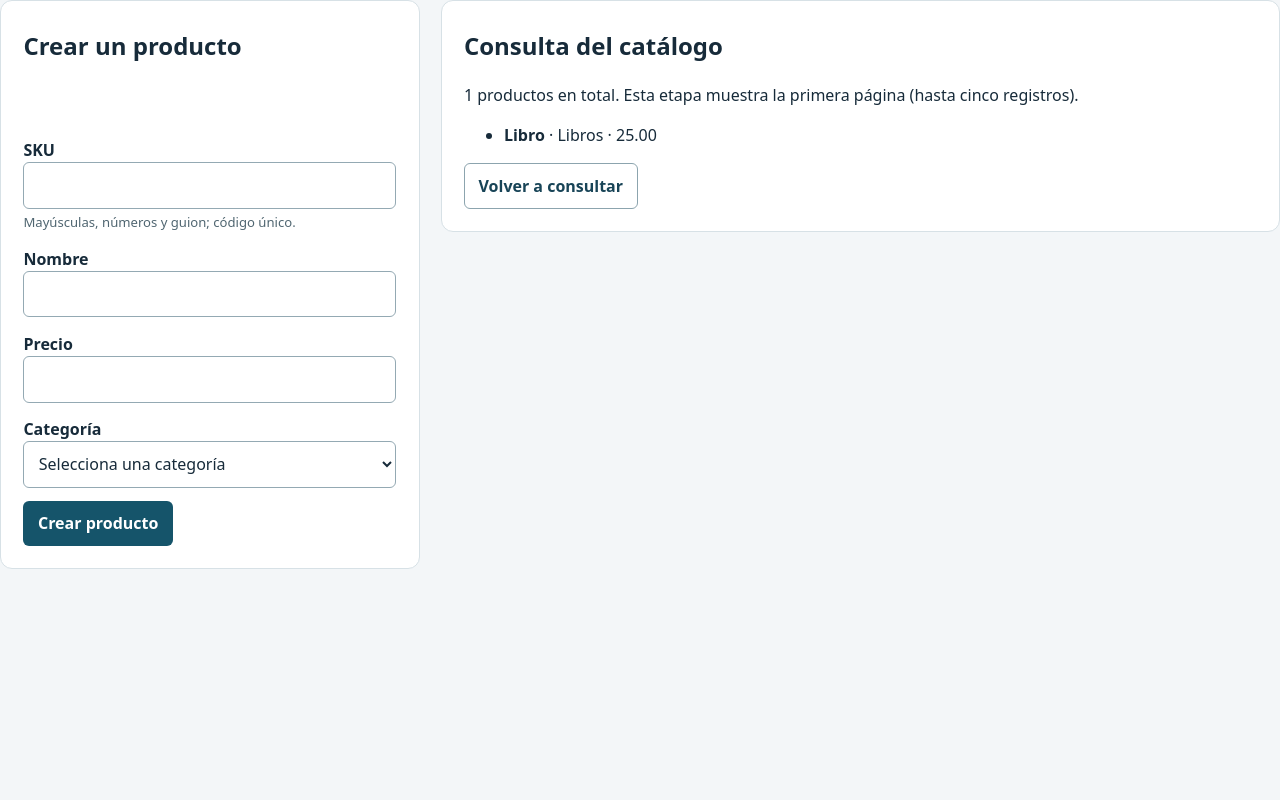
Test: etapa 2 crea con tipos correctos y actualiza la consulta
Type "ETAPA-01" into the field labelled "SKU" at (210, 185), box 23,162 -> 396,209
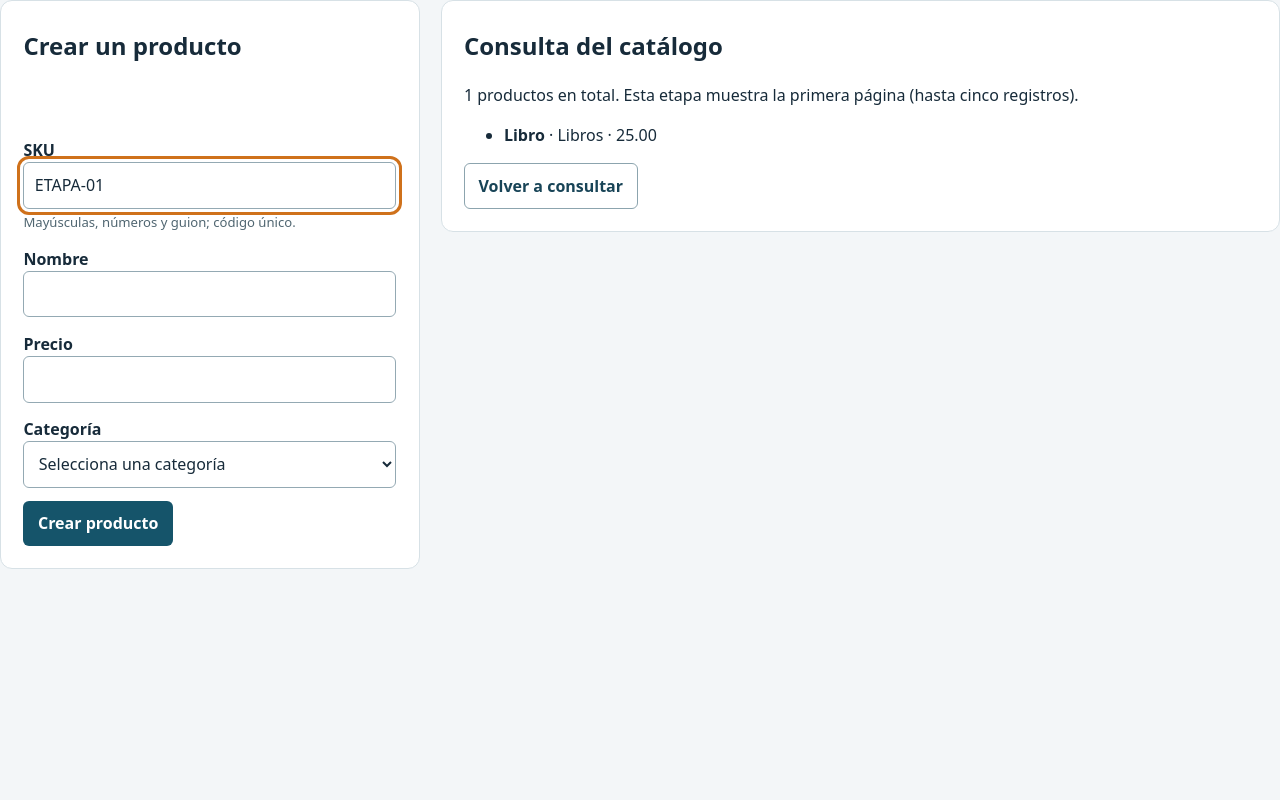
Type "Libro nuevo" into the field labelled "Nombre" at (210, 294), box 23,271 -> 396,317
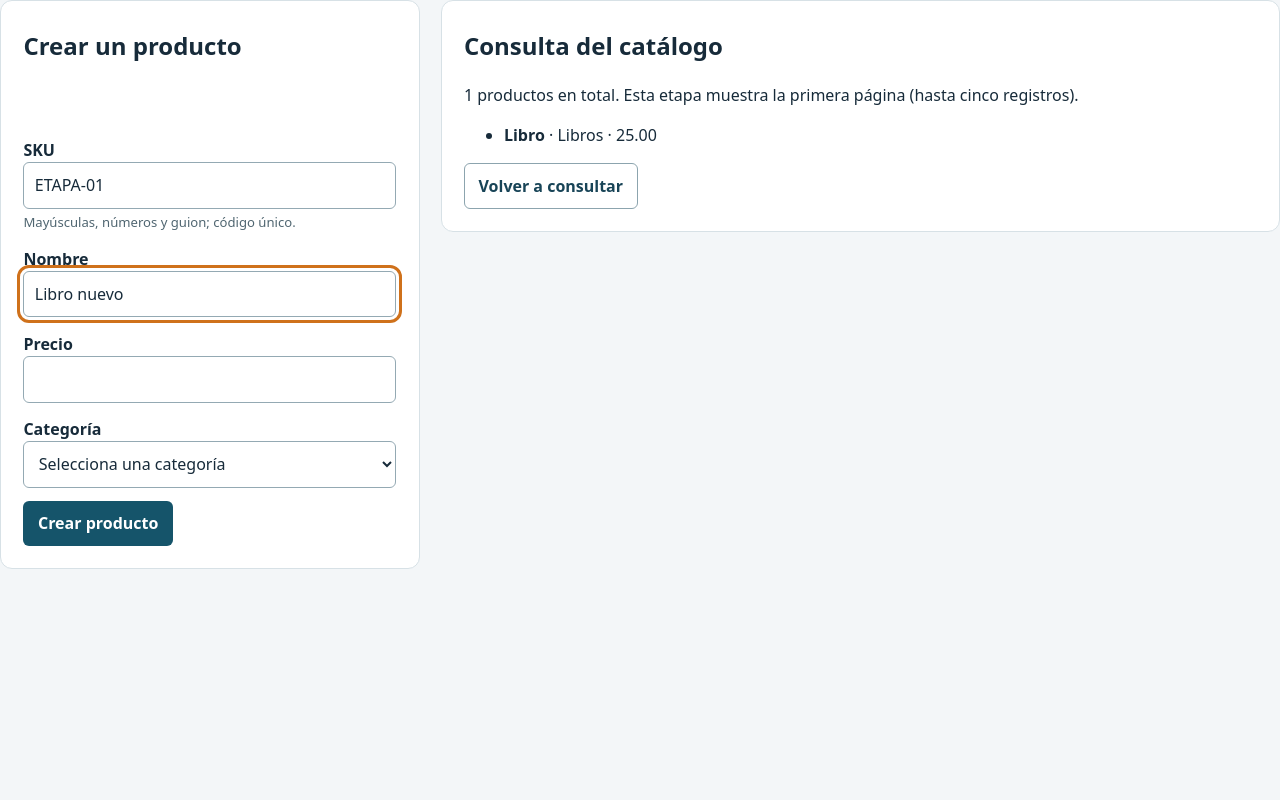
Type "30.50" into the number field labelled "Precio" at (210, 379), box 23,356 -> 396,403
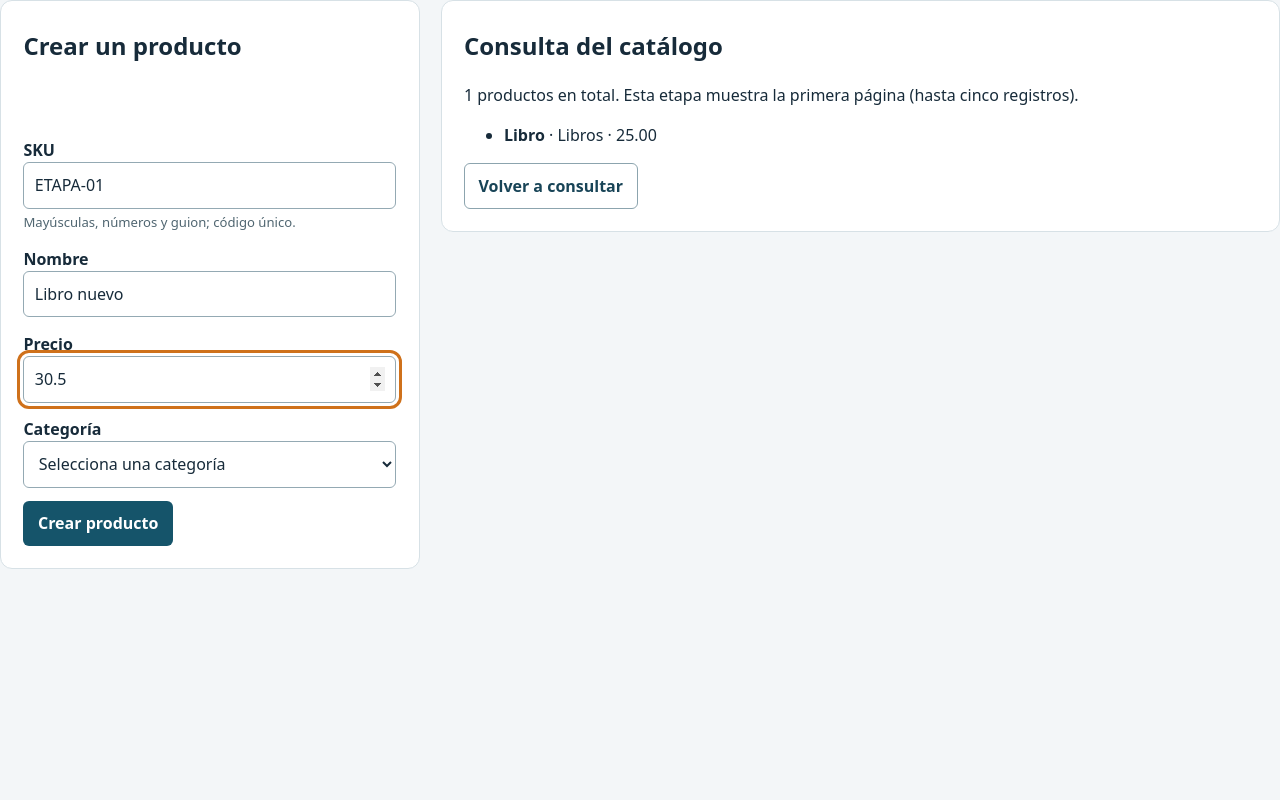
Select "Libros" in the dropdown labelled "Categoría" at (210, 464), box 23,441 -> 396,488
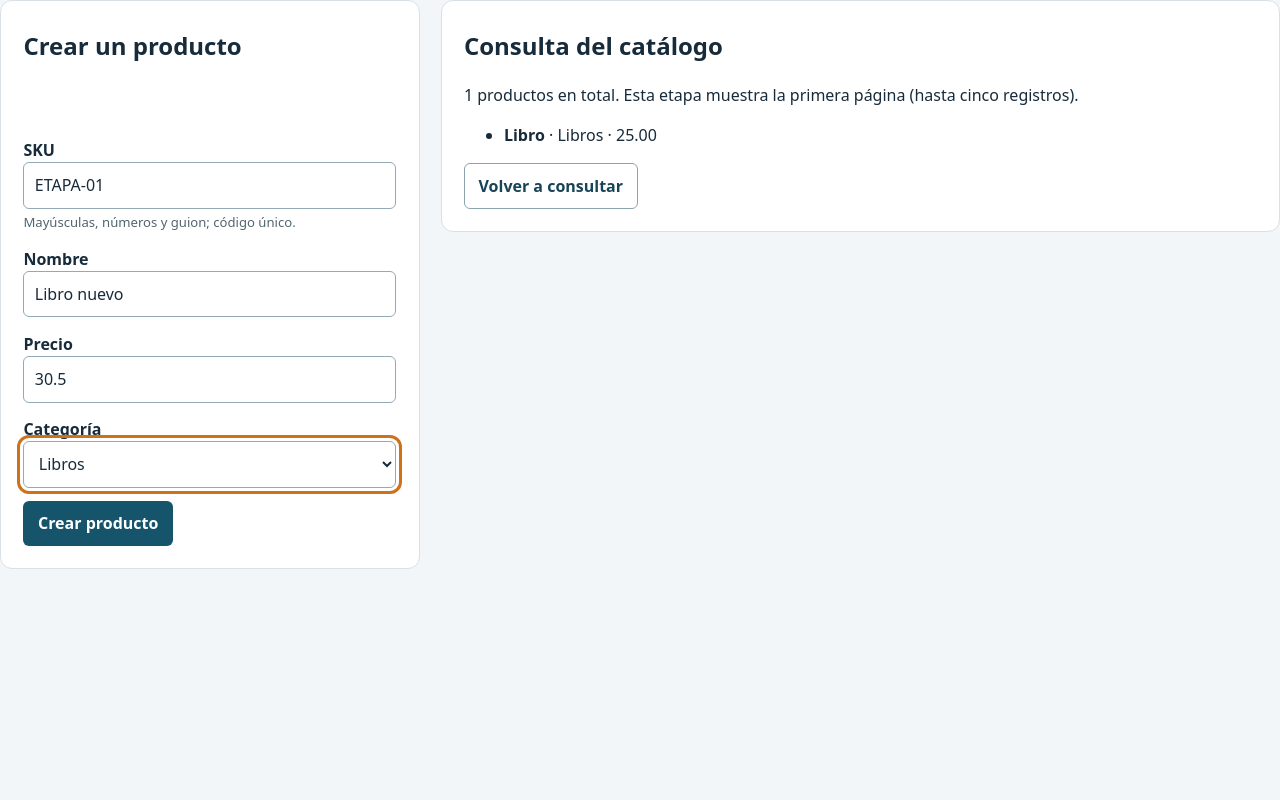
Click the button "Crear producto" at (98, 523), box 23,500 -> 173,546
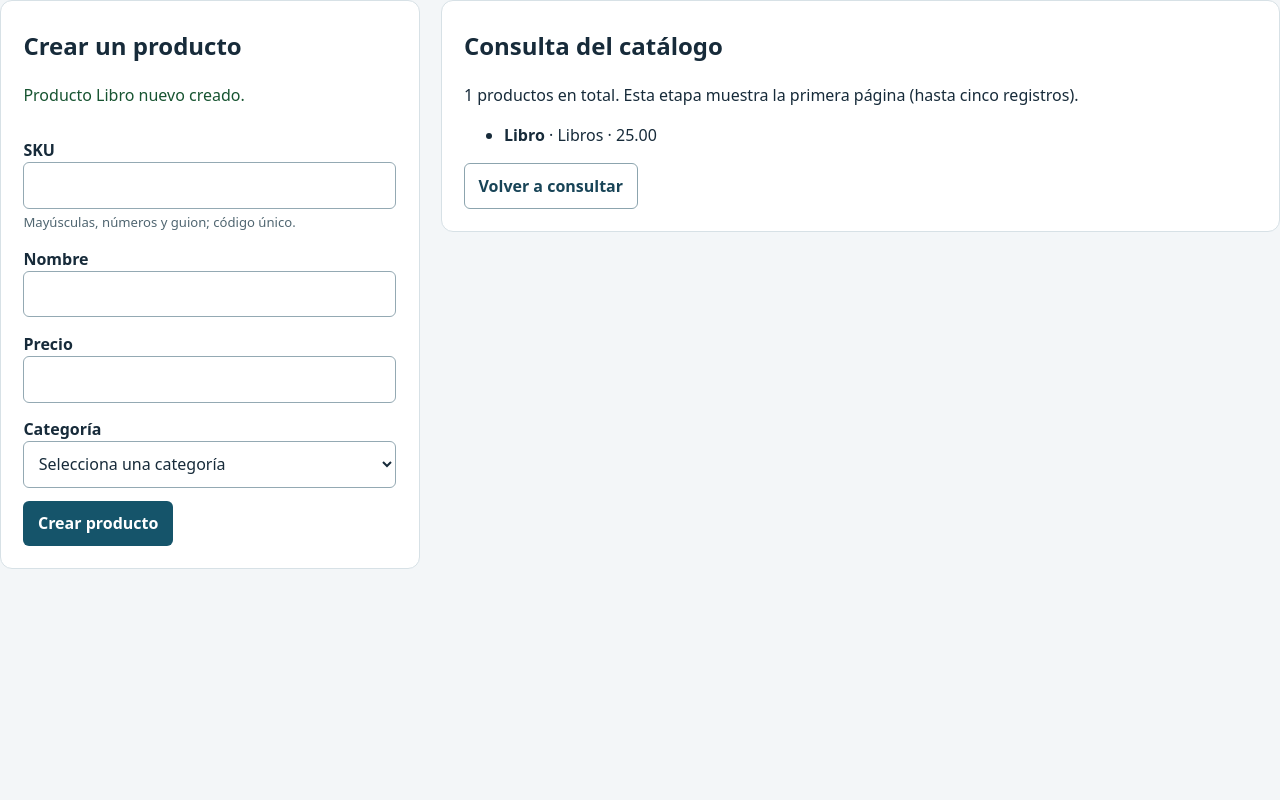
Now the text "Producto Libro nuevo creado." is shown, box 23,84 -> 245,106
